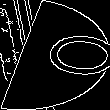O_W: (7, 28, 103, 82)
